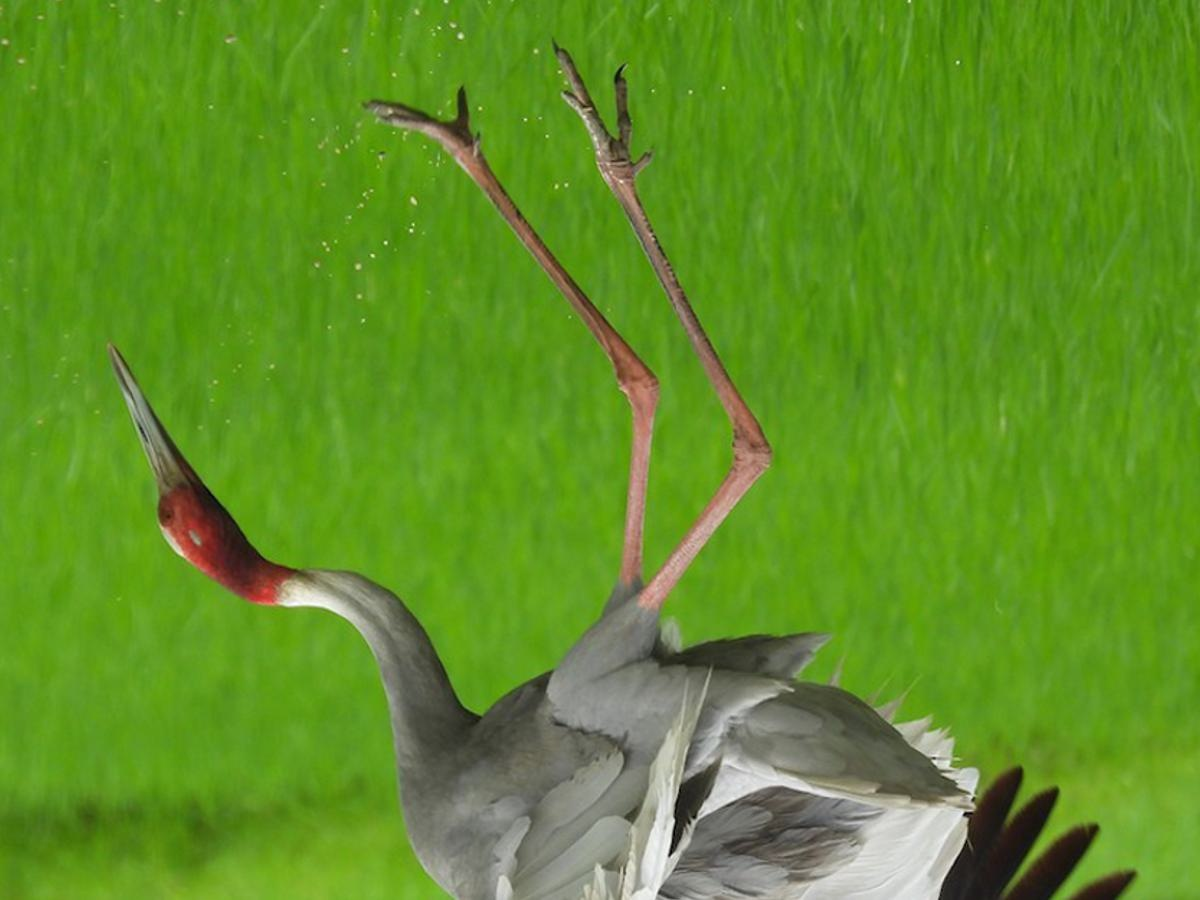crane: (114, 37, 935, 891)
